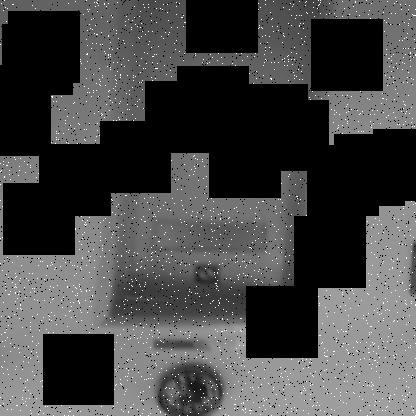Porte: (90, 1, 341, 331)
